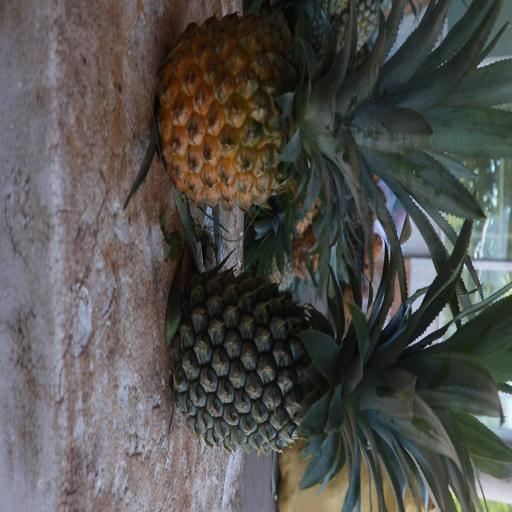Pineapple - v8 v1: (159, 24, 452, 212)
